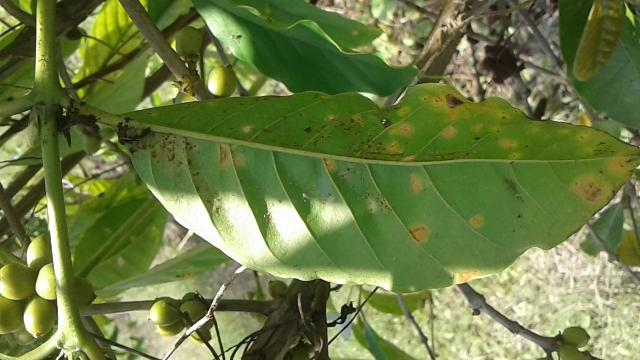rust_level_3: (72, 84, 638, 296)
